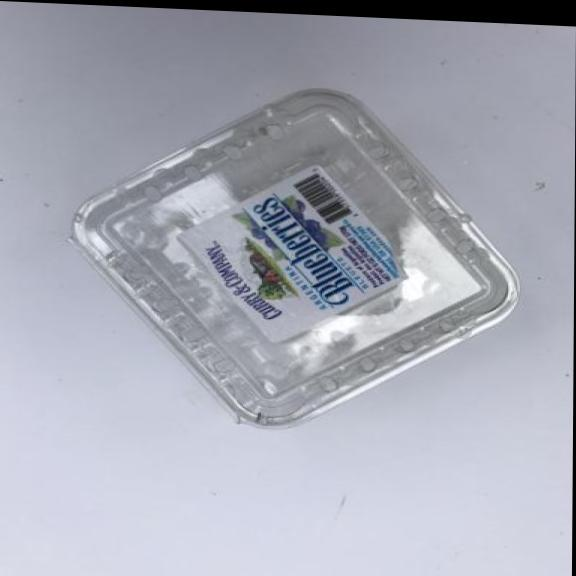Plastik: (57, 67, 528, 452)
